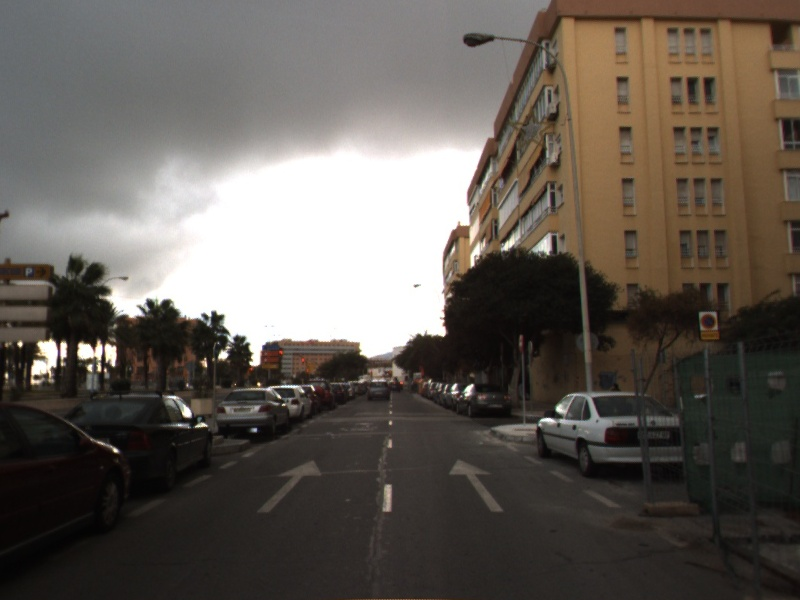STRAIGHT: (256, 457, 324, 514), (447, 457, 506, 513)
